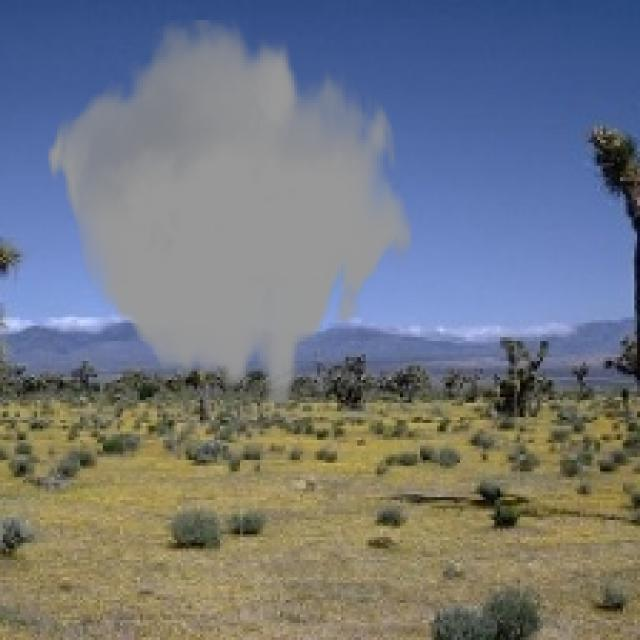smoke: (46, 20, 414, 403)
